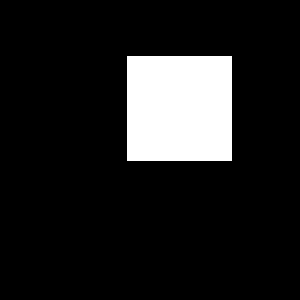circle: (127, 56, 232, 161)
